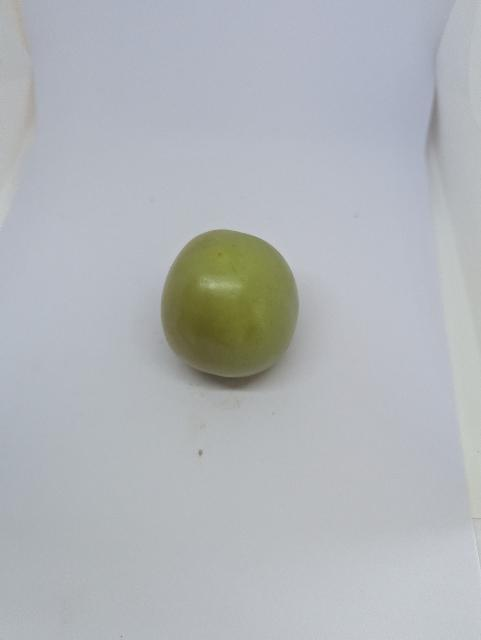green: (132, 220, 315, 399)
